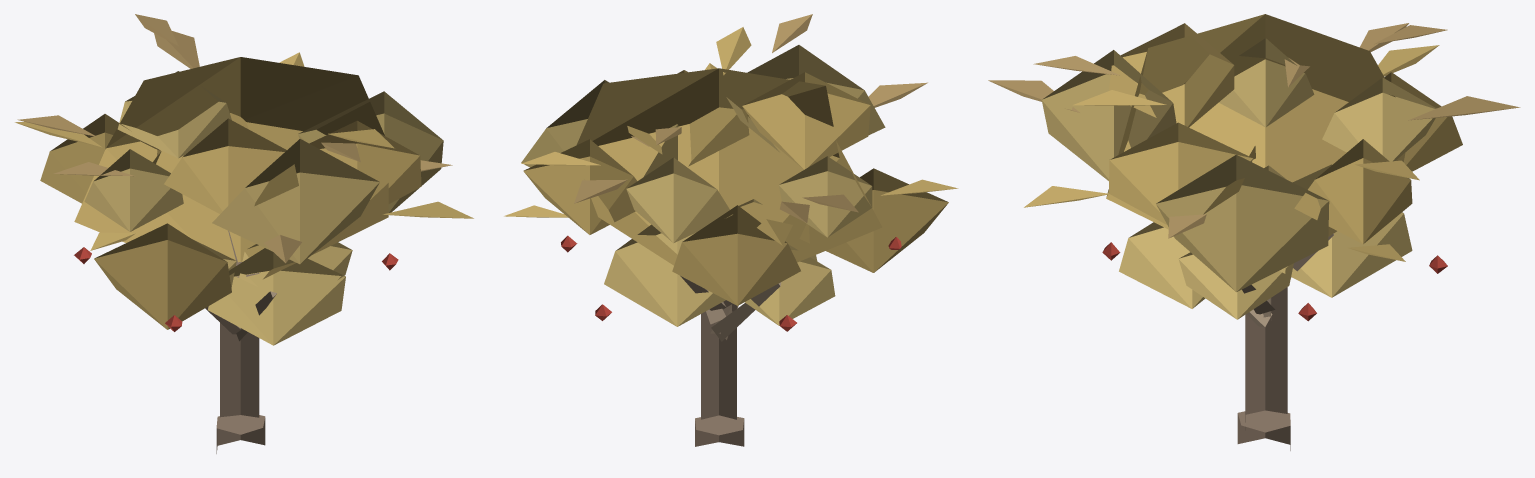
The model's file is shu.wujiaofeng@fruiting__autumn.glb.
The picture shows the model from 3 angles, left to right: view 1: azimuth 30°, elevation 25°; view 2: azimuth 150°, elevation 25°; view 3: azimuth 270°, elevation 25°; orthographic projection. The views are drawn at different scales.
Visible parts, largest first — view 1: shu.wujiaofeng@fruiting__autumn; view 2: shu.wujiaofeng@fruiting__autumn; view 3: shu.wujiaofeng@fruiting__autumn.
Part boxes in pixels (bbox=[...]): shu.wujiaofeng@fruiting__autumn: bbox=[15, 14, 473, 453]; shu.wujiaofeng@fruiting__autumn: bbox=[504, 14, 958, 446]; shu.wujiaofeng@fruiting__autumn: bbox=[988, 14, 1520, 450].
Size of the model in its own units: 11.11 by 10.46 by 12.31.
